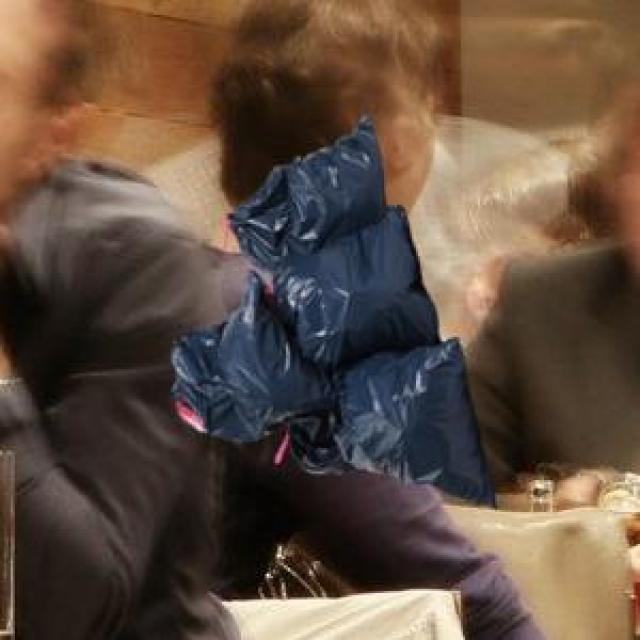Vinyl: (174, 118, 489, 501)
